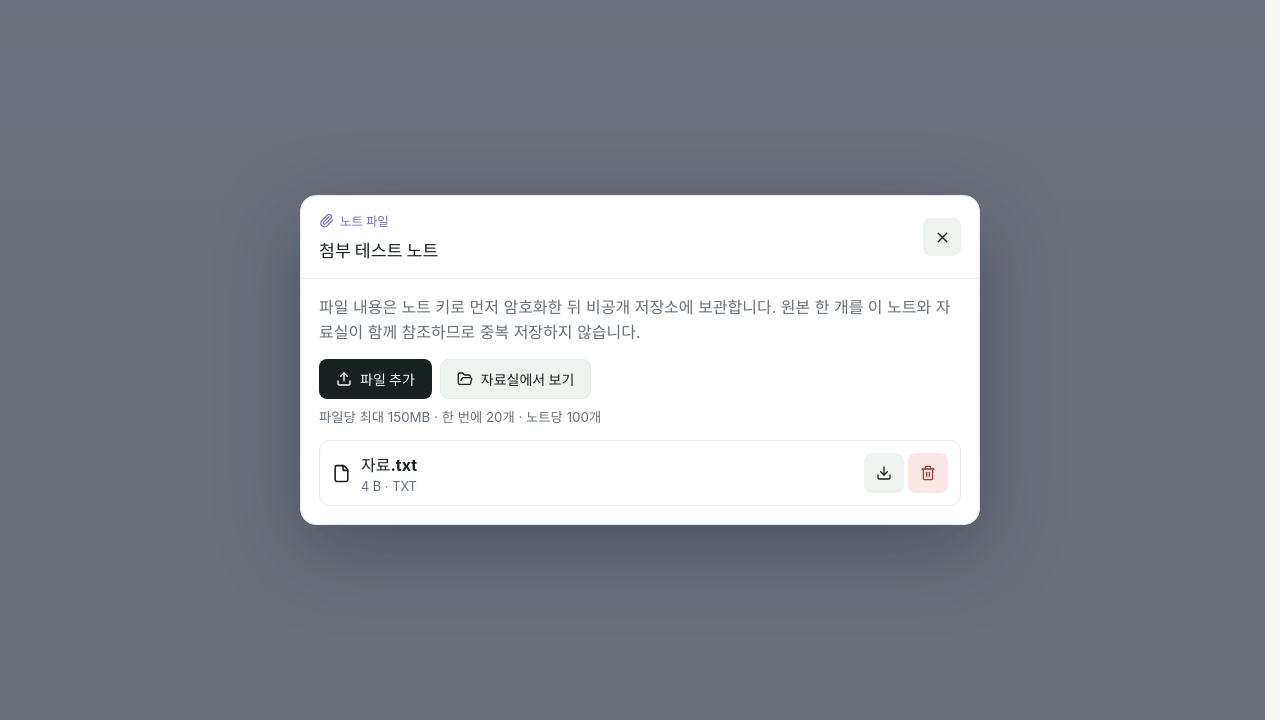
Test case: VaultNoteAttachmentsDialog › aborts an in-flight encrypted download without starting decryption
Click the button named "자료.txt 다운로드" at coordinates (884, 473), box [864, 453, 904, 493]
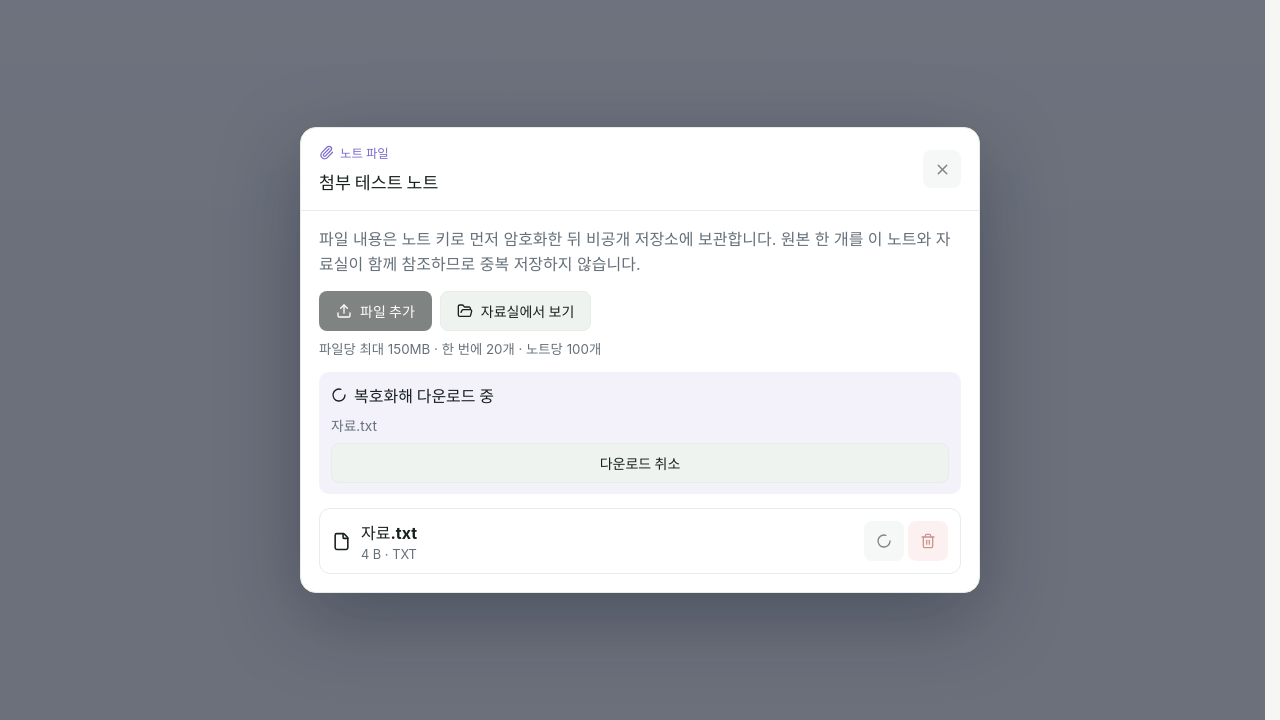
Click the button "다운로드 취소" at coordinates (640, 463), box [331, 443, 949, 483]
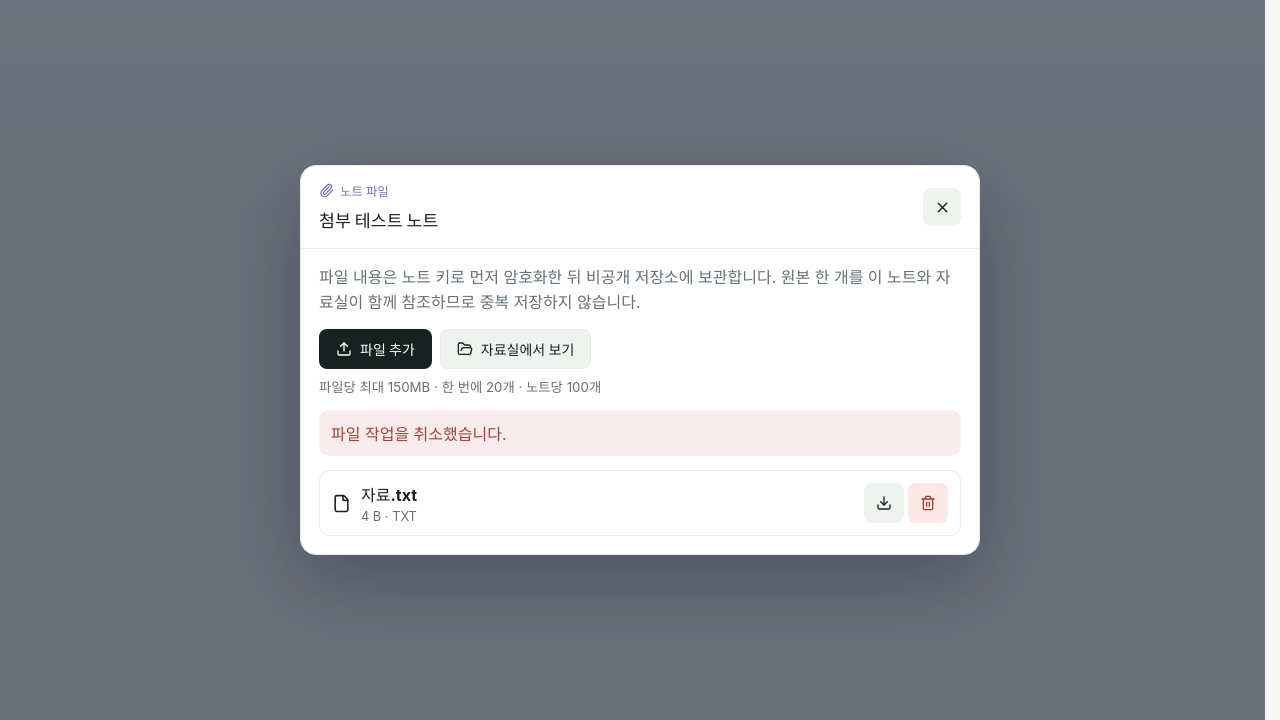
expect the message reads "파일 작업을 취소했습니다.": met, box [331, 424, 506, 444]
